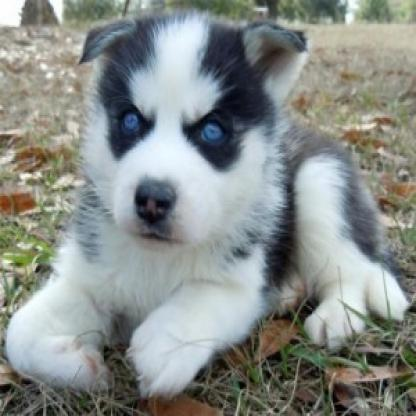dog: (3, 15, 404, 403)
